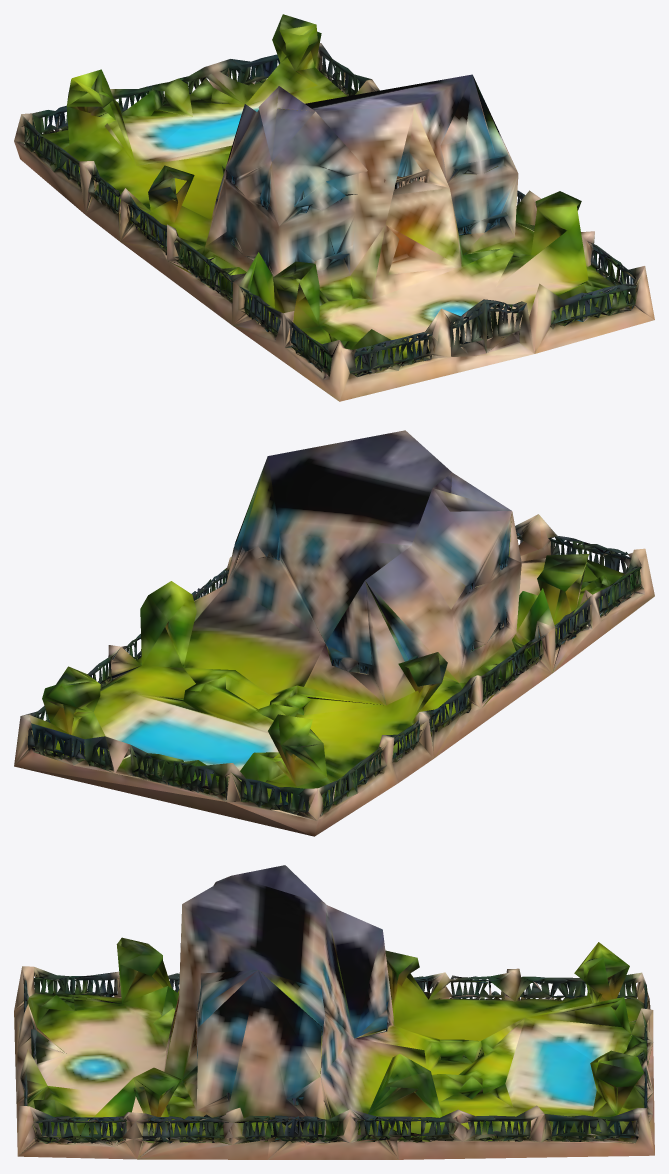
The model's file is house-mansion.far.glb.
3 views of the same model, one above another, from view 1: azimuth 30°, elevation 25°; view 2: azimuth 150°, elevation 25°; view 3: azimuth 270°, elevation 25° (orthographic). The views are drawn at different scales.
Parts seen in each view (by area): view 1: low; view 2: low; view 3: low.
Part boxes in pixels (<box>): low: <box>14,14,654,401</box>; low: <box>14,430,654,836</box>; low: <box>14,865,654,1159</box>.
Bounding box in the file's own units: 0.5461 × 0.3145 × 0.9822.
Materials: 1 (1 with a texture image).
